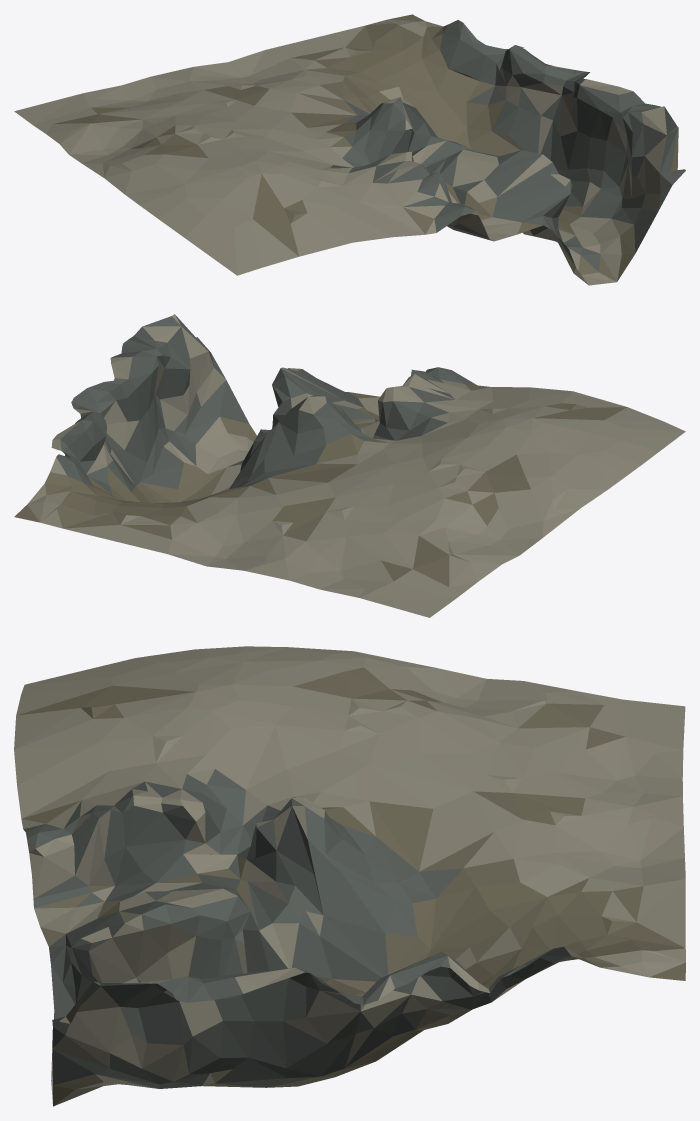
Rendered from RocksAndSand.fbx.
The picture shows the model from 3 angles, top to bottom: view 1: azimuth 30°, elevation 25°; view 2: azimuth 150°, elevation 25°; view 3: azimuth 270°, elevation 25°; orthographic projection. The views are drawn at different scales.
Parts seen in each view (by area): view 1: Plane; view 2: Plane; view 3: Plane.
Boxes of the visible parts, x1,y1,x2,y2 form: Plane: (14,14,685,285); Plane: (14,314,685,617); Plane: (14,646,685,1106).
Size of the model in its own units: 25150 by 7246 by 20725.
